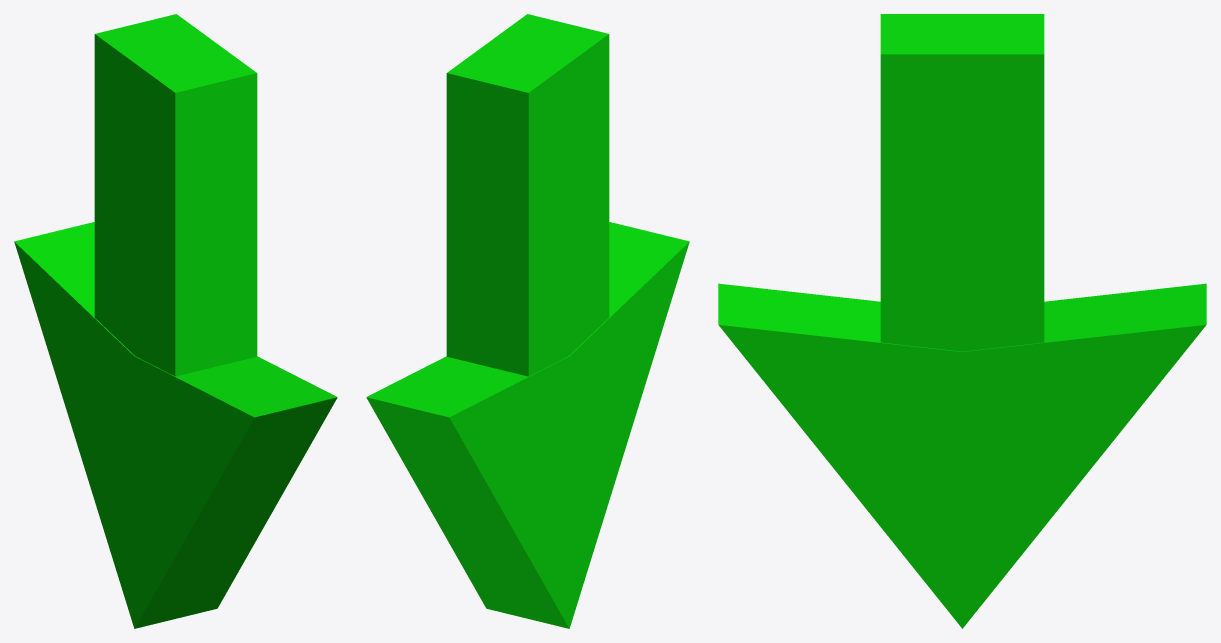
File: arrow.fbx
The picture shows the model from 3 angles, left to right: view 1: azimuth 30°, elevation 25°; view 2: azimuth 150°, elevation 25°; view 3: azimuth 270°, elevation 25°; orthographic projection.
Parts seen in each view (by area): view 1: Cube; view 2: Cube; view 3: Cube.
Part boxes in pixels (x1,y1,x2,y2): Cube: (14, 14, 337, 628); Cube: (366, 14, 689, 628); Cube: (718, 14, 1206, 628).
Size of the model in its own units: 28.24 by 183 by 141.
